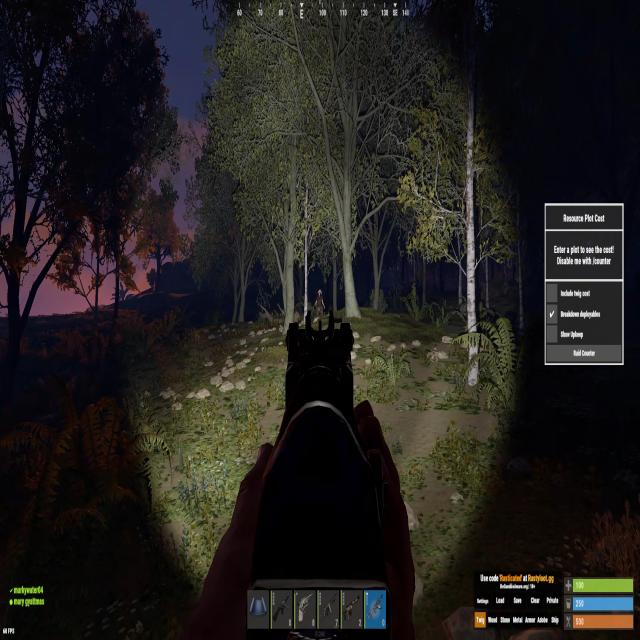Player: (316, 289, 325, 316)
